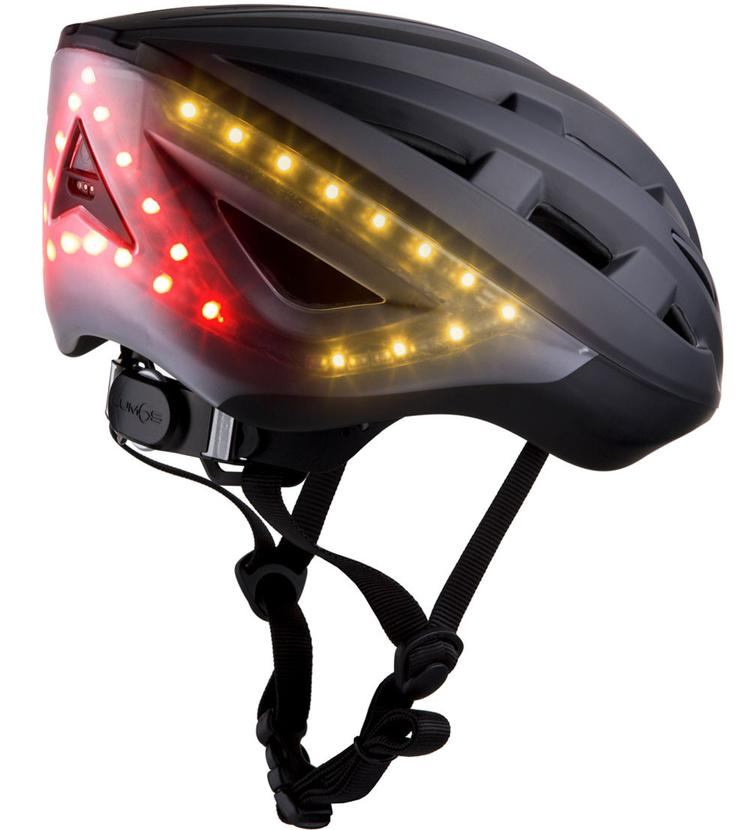with_helmet: (27, 1, 733, 554)
